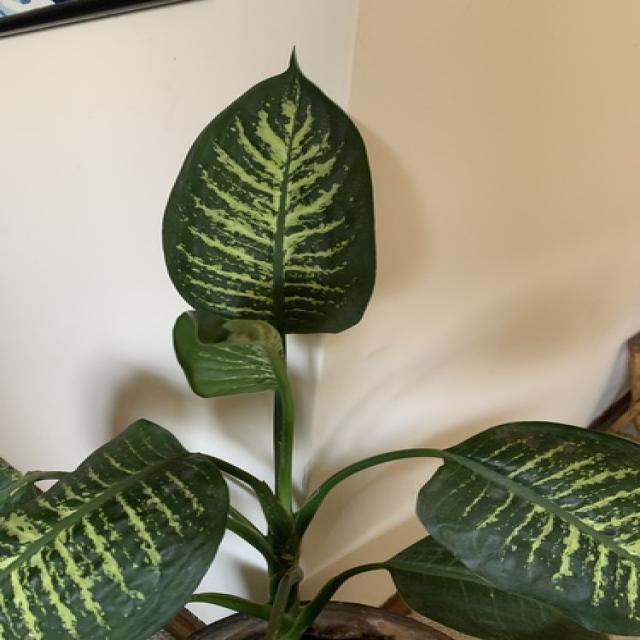dieffenbachia-oVHx: (0, 44, 640, 640)
